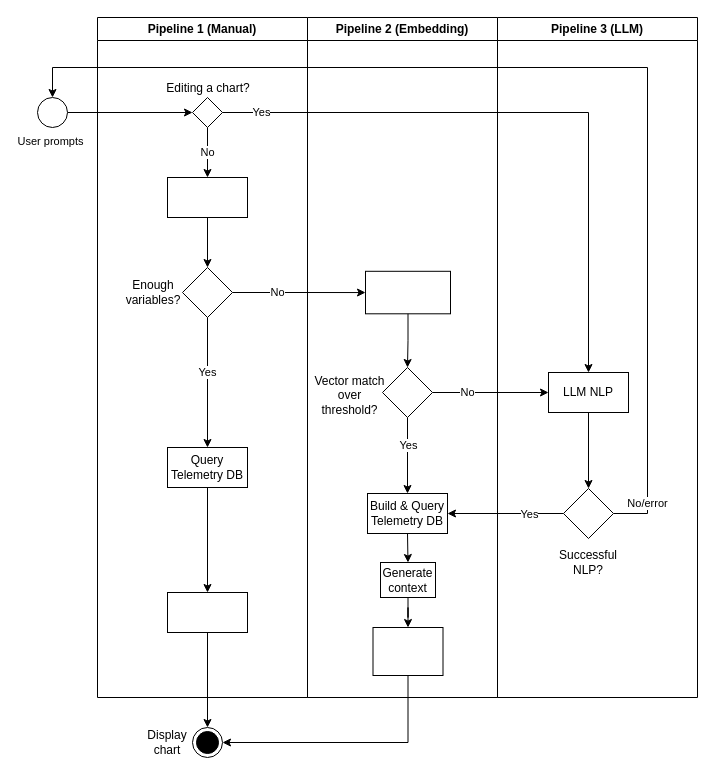
The diagram is 715 pixels wide and 775 high, and some of its shapes have lost their labels. Each missing label, with the box of its shape:
Embed & Perform Vector search: (364, 270, 450, 314)
Extract Variables: (166, 176, 248, 218)
Fill LLM Generated Chart: (372, 626, 443, 676)
Manually fill chart: (166, 592, 248, 632)
